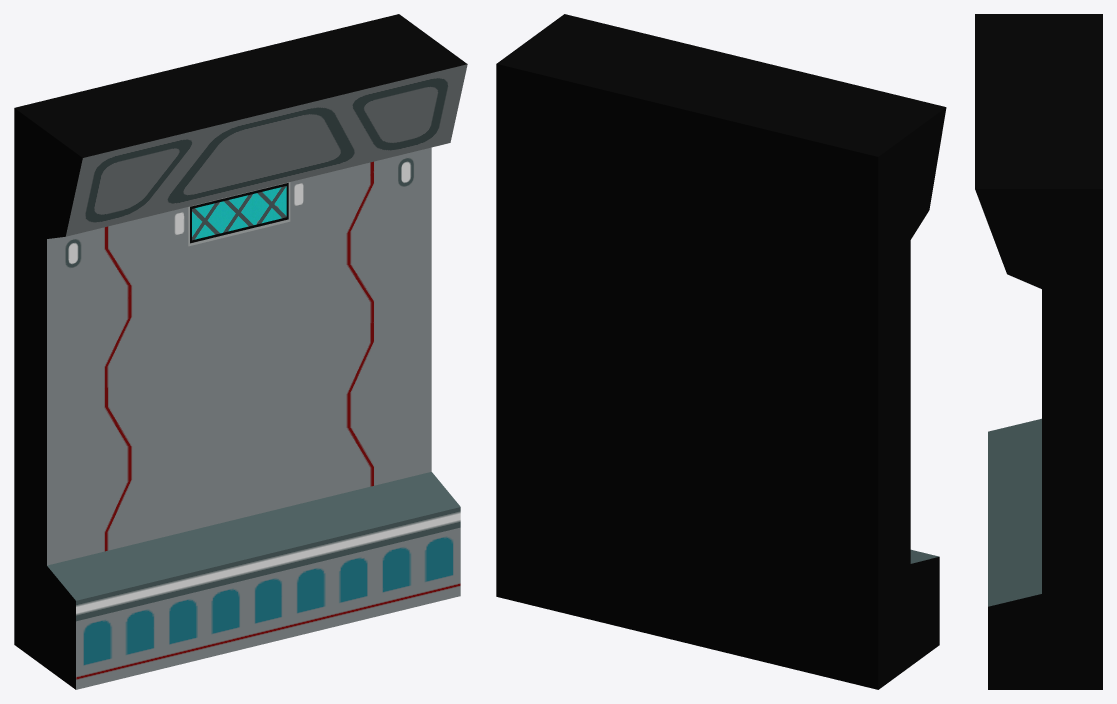
The model's file is MurTestCellShading.fbx.
3 views of the same model, side by side, from view 1: azimuth 30°, elevation 25°; view 2: azimuth 150°, elevation 25°; view 3: azimuth 270°, elevation 25° (orthographic). The views are drawn at different scales.
Visible parts, largest first — view 1: Cube.006; view 2: Cube.006; view 3: Cube.006.
Part boxes in pixels (left/top/right/bottom): Cube.006: left=14, top=14, right=467, bottom=689; Cube.006: left=496, top=14, right=946, bottom=689; Cube.006: left=975, top=14, right=1102, bottom=689.
Size of the model in its own units: 300 by 92.61 by 400.
